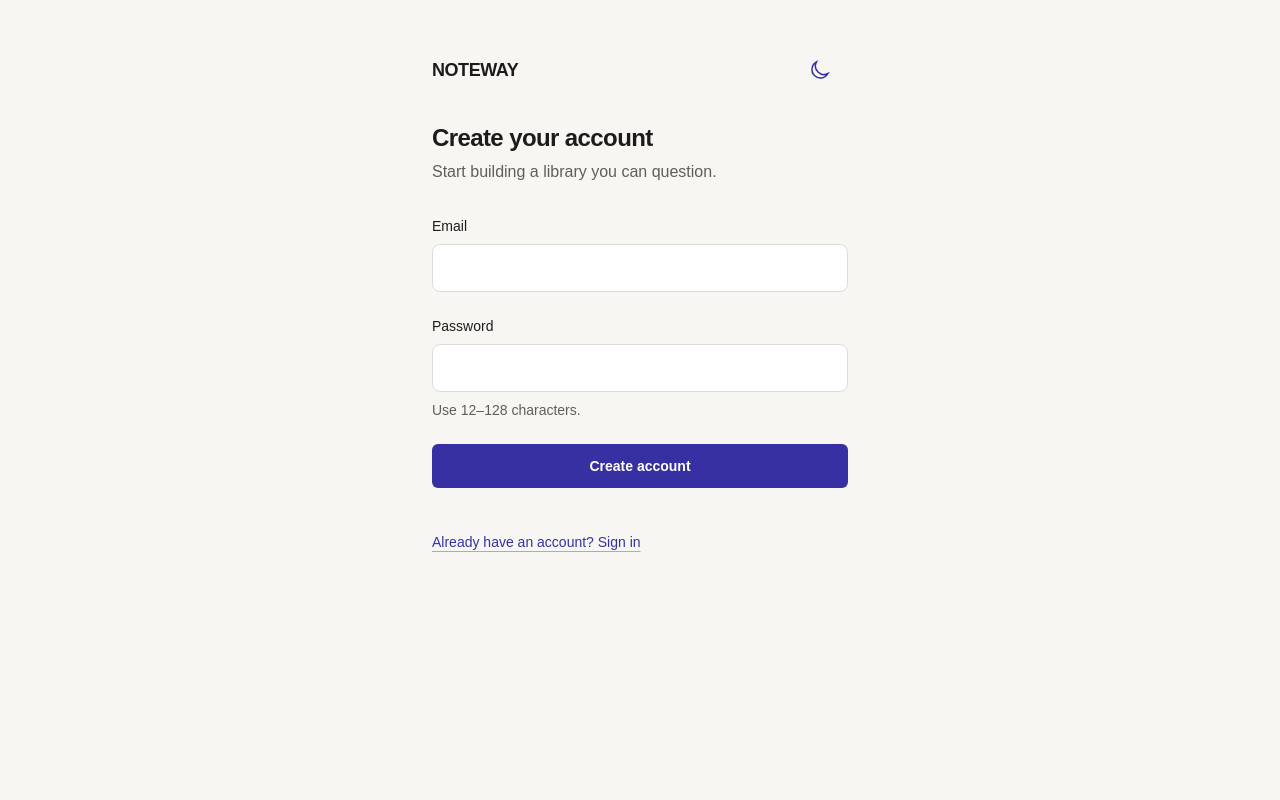
Test case: registers and enters the library, keeping the access token out of storage
Type "reader@example.test" into the field labelled "Email" at [640, 268], box [432,244,848,292]
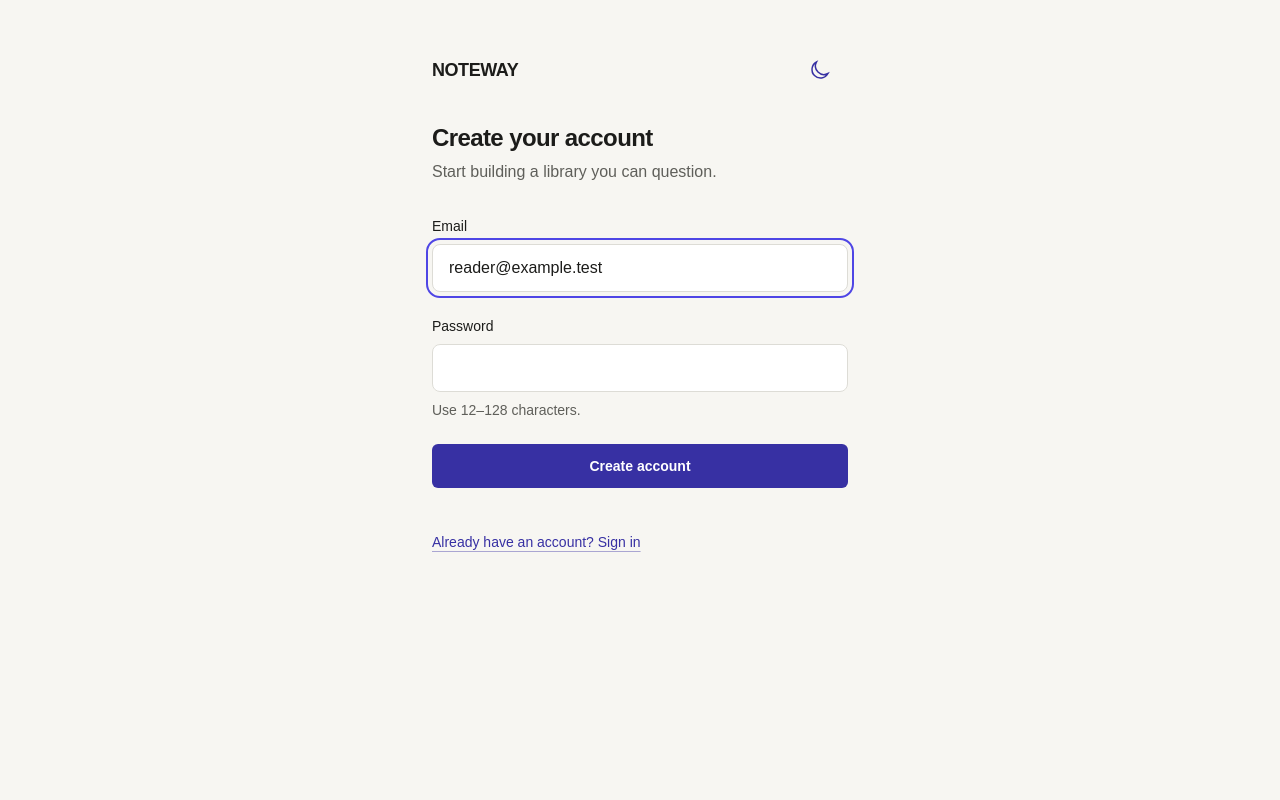
Type "my-long-password" into the password field labelled "Password" at [640, 368], box [432,344,848,392]
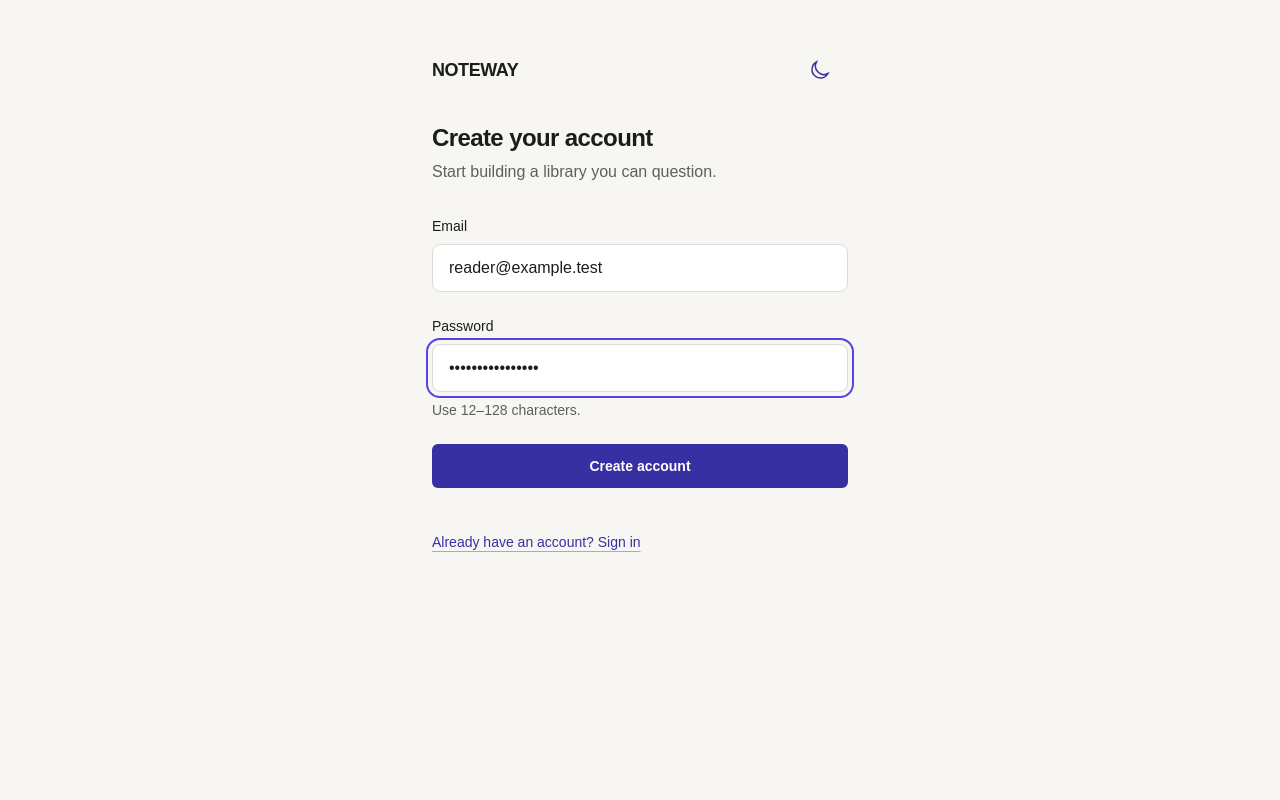
Click the button "Create account" at [640, 466], box [432,444,848,488]
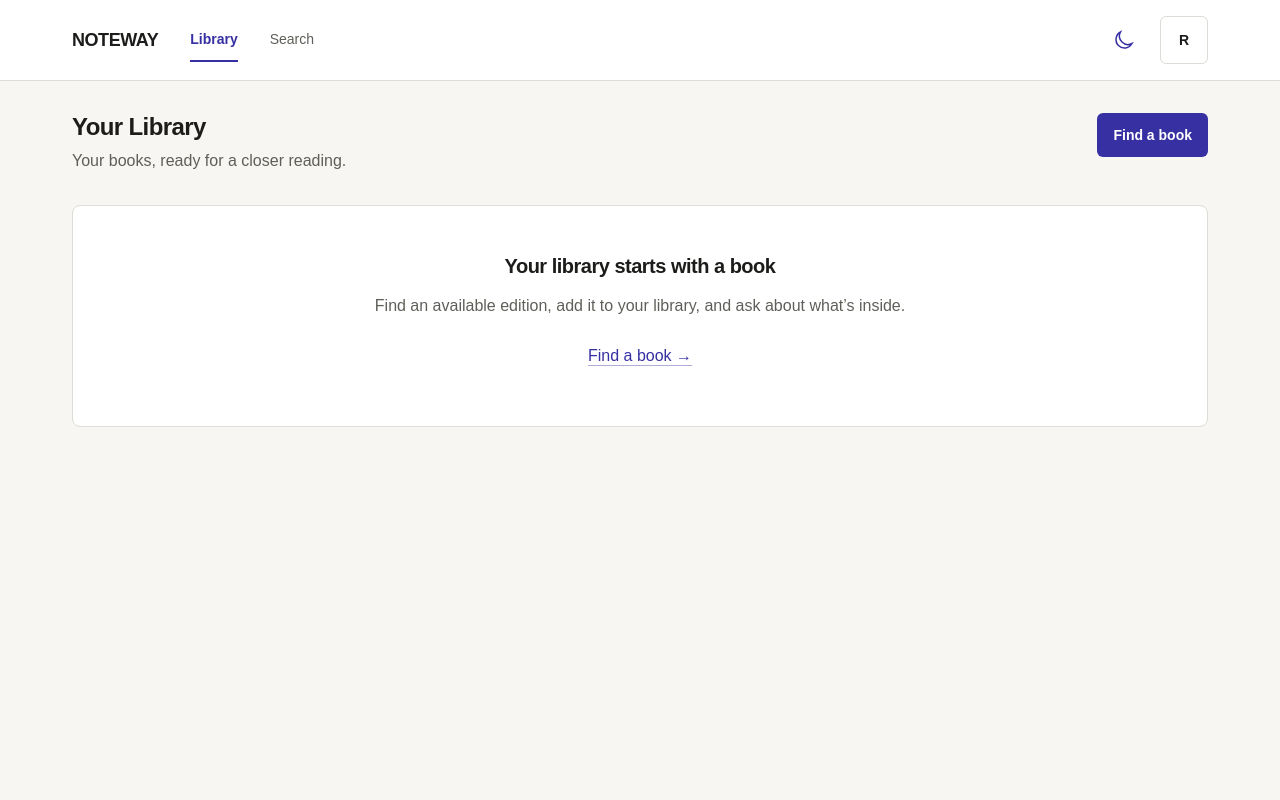
Expected: the heading "Your Library" is shown, [72,113,206,140]
Expected: the heading "Your library starts with a book" is shown, [505,255,776,277]
